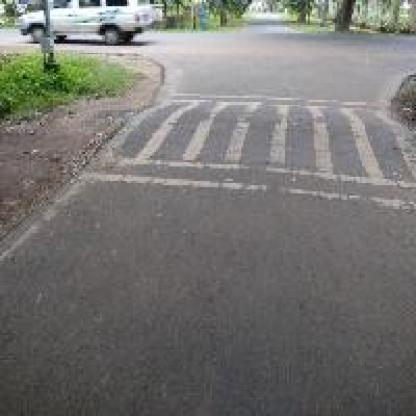Speed Bump: (87, 91, 412, 206)
